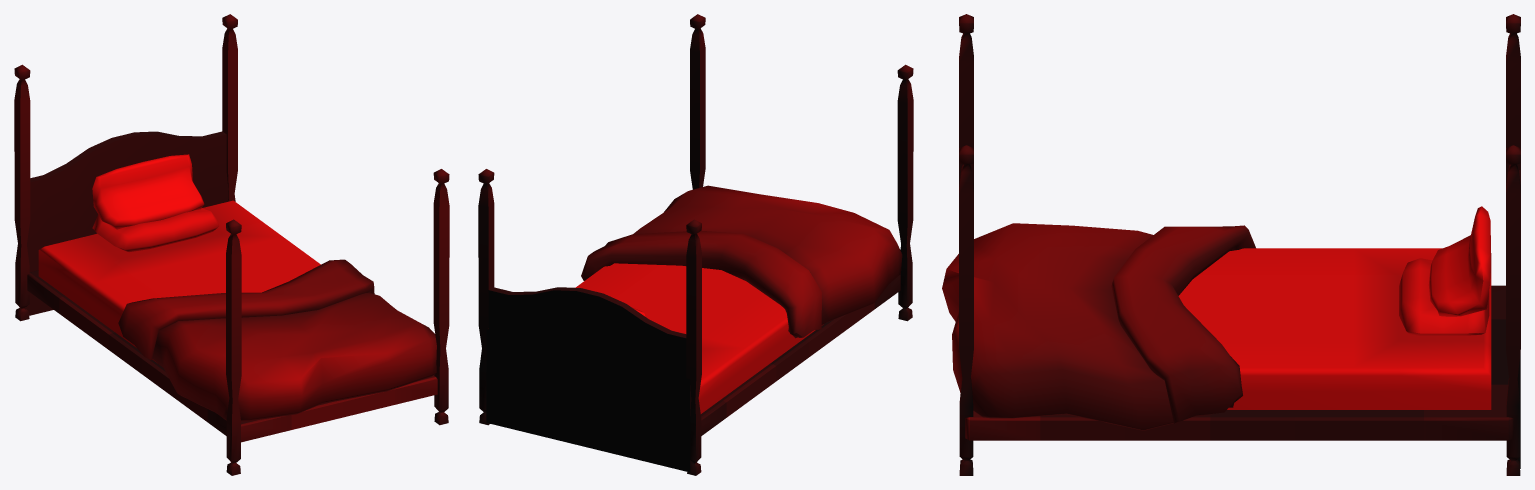
File: FourPostBed002.glb
3 renders of one model, left to right at view 1: azimuth 30°, elevation 25°; view 2: azimuth 150°, elevation 25°; view 3: azimuth 270°, elevation 25°, orthographic. The views are drawn at different scales.
Parts seen in each view (by area): view 1: FourPostBed002; view 2: FourPostBed002; view 3: FourPostBed002.
Boxes of the visible parts, box(x1,y1,x2,y2) form: FourPostBed002: box(14, 14, 449, 475); FourPostBed002: box(478, 14, 913, 475); FourPostBed002: box(942, 14, 1520, 475).
Bounding box in the file's own units: 8.3 × 8.49 × 13.59.
